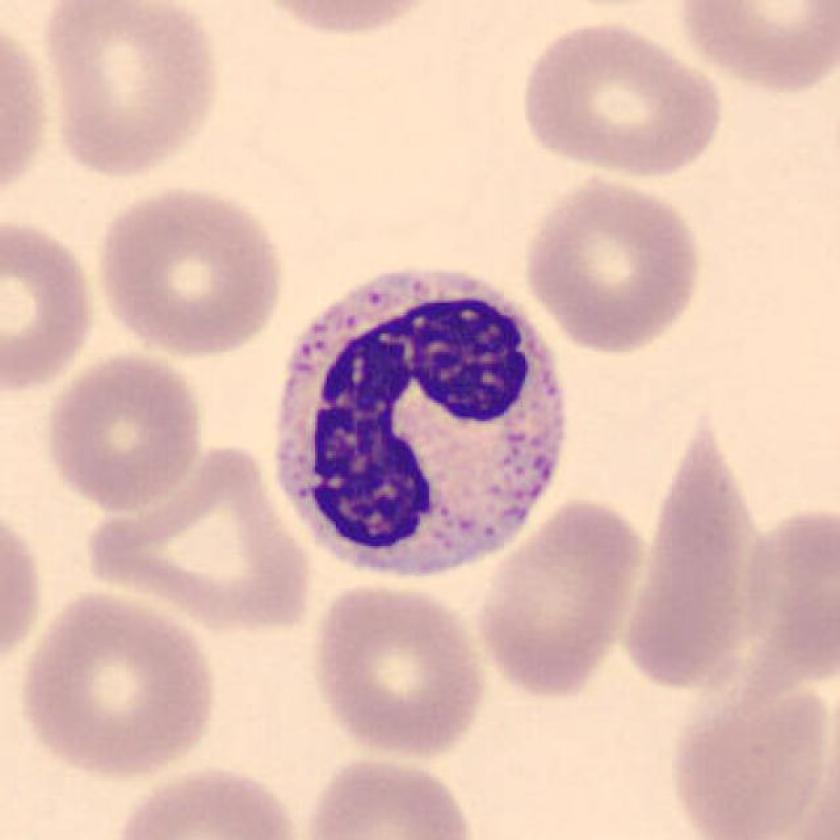neutrophil: (281, 264, 567, 571)
